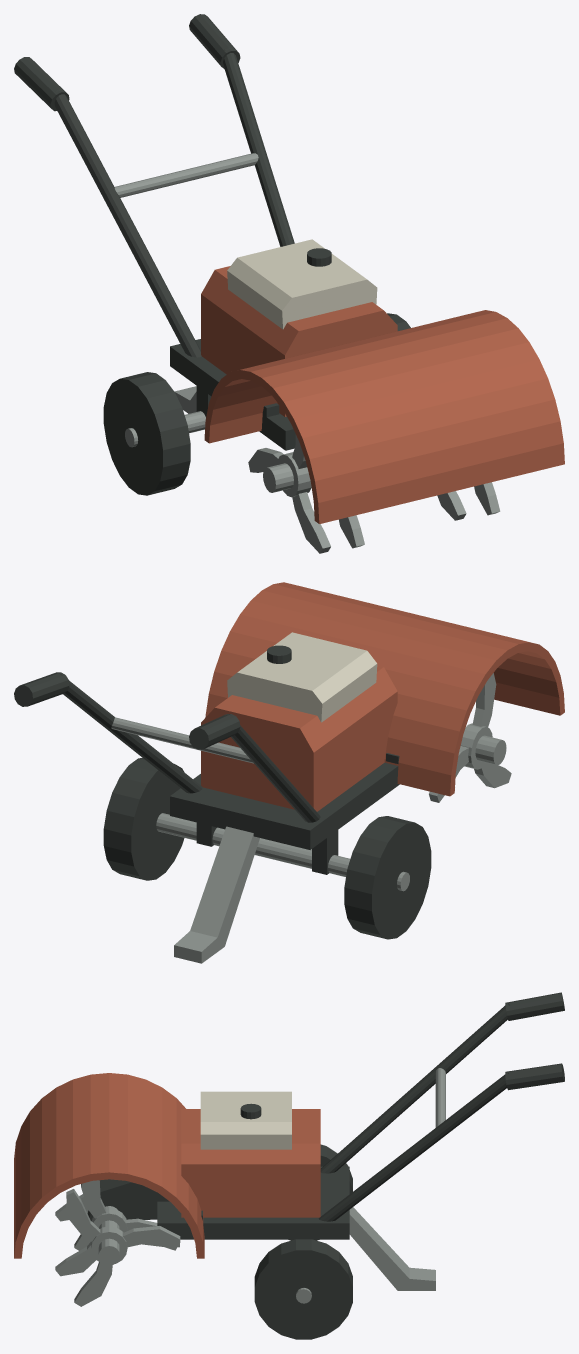
3 views of the same model, one above another, from view 1: azimuth 30°, elevation 25°; view 2: azimuth 150°, elevation 25°; view 3: azimuth 270°, elevation 25° (orthographic). The views are drawn at different scales.
Parts seen in each view (by area): view 1: WholeSemiCylindricalOpenBottomRotorHood, WholeChamferedLowMotorEnclosure, WholeFiniteSoleTransportWheel0, WholeRoundedRectangularTopTank, WholeLongRisingSeparateHandle0, WholeLongRisingSeparateHandle1, WholeLowRearChassisTray, WholeHandleCrossBrace, WholeLongDarkHandleGrip0, WholeLongDarkHandleGrip1, WholeCurvedBluntTine0_2, WholeTransverseTineRotorShaft (+1 smaller); view 2: WholeSemiCylindricalOpenBottomRotorHood, WholeChamferedLowMotorEnclosure, WholeFiniteSoleTransportWheel0, WholeRoundedRectangularTopTank, WholeLowRearChassisTray, WholeFiniteSoleTransportWheel1, WholeRearDepthStakeAndFlatFoot, WholeTransportWheelAxle, WholeLongRisingSeparateHandle1, WholeLongRisingSeparateHandle0, WholeHandleCrossBrace, WholeLongDarkHandleGrip1 (+6 smaller); view 3: WholeSemiCylindricalOpenBottomRotorHood, WholeChamferedLowMotorEnclosure, WholeFiniteSoleTransportWheel1, WholeLowRearChassisTray, WholeRoundedRectangularTopTank, WholeLongRisingSeparateHandle0, WholeLongRisingSeparateHandle1, WholeRearDepthStakeAndFlatFoot, WholeNarrowCentreDriveCasing, WholeLongDarkHandleGrip1, WholeLongDarkHandleGrip0, WholeCurvedBluntTine3_0 (+8 smaller).
Boxes of the visible parts, x1,y1,x2,y2 form: WholeSemiCylindricalOpenBottomRotorHood: (204, 310, 564, 523); WholeChamferedLowMotorEnclosure: (201, 266, 397, 416); WholeFiniteSoleTransportWheel0: (103, 372, 190, 495); WholeRoundedRectangularTopTank: (227, 239, 377, 329); WholeLongRisingSeparateHandle0: (54, 89, 201, 357); WholeLongRisingSeparateHandle1: (223, 48, 294, 246); WholeLowRearChassisTray: (170, 339, 295, 450); WholeHandleCrossBrace: (114, 153, 258, 197); WholeLongDarkHandleGrip0: (14, 57, 69, 111); WholeLongDarkHandleGrip1: (189, 14, 240, 68); WholeCurvedBluntTine0_2: (292, 492, 330, 553); WholeTransverseTineRotorShaft: (263, 463, 293, 492); WholeSemiCylindricalOpenBottomRotorHood: (205, 582, 564, 796); WholeChamferedLowMotorEnclosure: (201, 665, 397, 811); WholeFiniteSoleTransportWheel0: (344, 816, 431, 939); WholeRoundedRectangularTopTank: (227, 632, 377, 722); WholeLowRearChassisTray: (170, 762, 399, 849); WholeFiniteSoleTransportWheel1: (103, 758, 184, 880); WholeRearDepthStakeAndFlatFoot: (174, 826, 259, 963); WholeTransportWheelAxle: (156, 813, 409, 891); WholeLongRisingSeparateHandle1: (56, 673, 202, 793); WholeLongRisingSeparateHandle0: (224, 714, 320, 822); WholeHandleCrossBrace: (111, 717, 253, 763); WholeLongDarkHandleGrip1: (14, 672, 69, 706); WholeSemiCylindricalOpenBottomRotorHood: (14, 1073, 204, 1258); WholeChamferedLowMotorEnclosure: (181, 1109, 320, 1217); WholeFiniteSoleTransportWheel1: (254, 1239, 352, 1339); WholeLowRearChassisTray: (157, 1166, 349, 1239); WholeRoundedRectangularTopTank: (200, 1091, 291, 1149); WholeLongRisingSeparateHandle0: (320, 1002, 509, 1173); WholeLongRisingSeparateHandle1: (318, 1071, 509, 1221); WholeRearDepthStakeAndFlatFoot: (349, 1207, 435, 1290); WholeNarrowCentreDriveCasing: (87, 1179, 169, 1221); WholeLongDarkHandleGrip1: (505, 1063, 564, 1090); WholeLongDarkHandleGrip0: (505, 992, 564, 1020); WholeCurvedBluntTine3_0: (123, 1226, 180, 1247).
Size of the model in its own units: 1.1 by 1.18 by 2.29.
